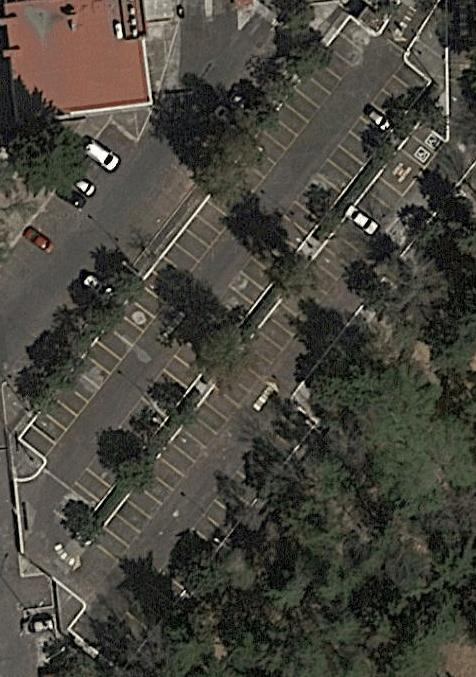parkingspot: (18, 16, 377, 461), (73, 59, 430, 504), (90, 119, 447, 564), (92, 399, 318, 669), (0, 118, 144, 286)
